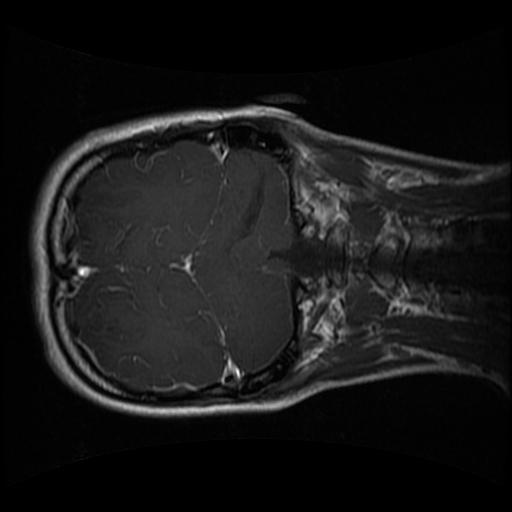glioma: (226, 177, 266, 251)
